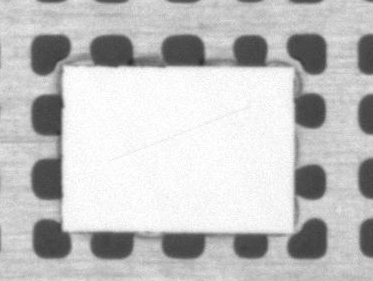DIE_CRACK: (143, 80, 332, 121)
